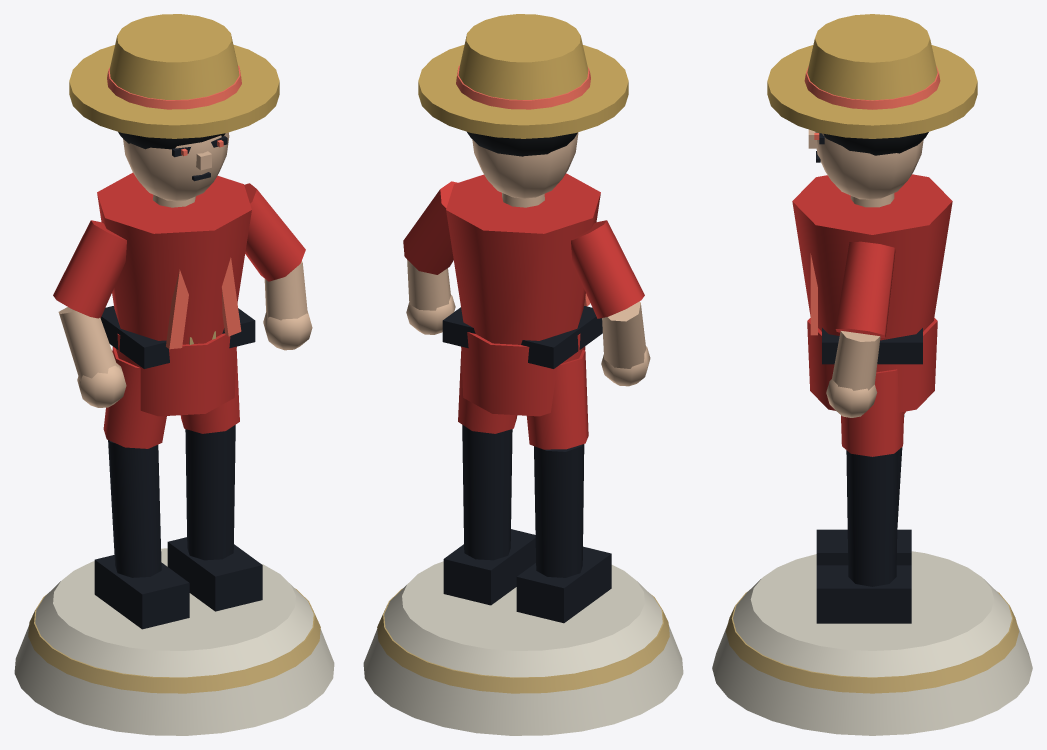
The model's file is luffy.glb.
3 renders of one model, left to right at view 1: azimuth 30°, elevation 25°; view 2: azimuth 150°, elevation 25°; view 3: azimuth 270°, elevation 25°, orthographic.
Parts seen in each view (by area): view 1: Placeholder Monkey D. Luffy; view 2: Placeholder Monkey D. Luffy; view 3: Placeholder Monkey D. Luffy.
Part boxes in pixels (x1=…): Placeholder Monkey D. Luffy: x1=14, y1=14, x2=334, y2=735; Placeholder Monkey D. Luffy: x1=363, y1=14, x2=683, y2=735; Placeholder Monkey D. Luffy: x1=712, y1=14, x2=1032, y2=735.
Bounding box in the file's own units: 0.54 × 1.17 × 0.54.
